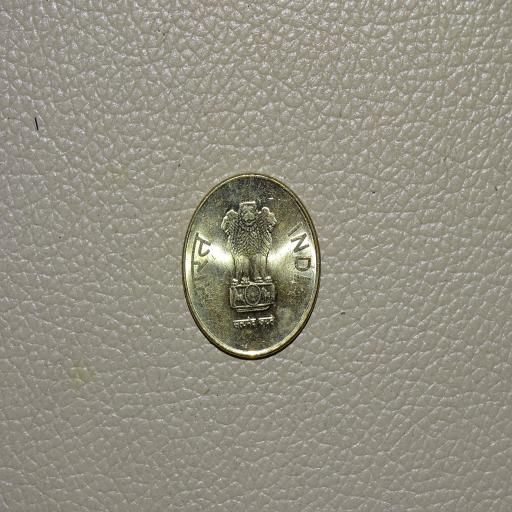rupee5: (180, 174, 323, 362)
